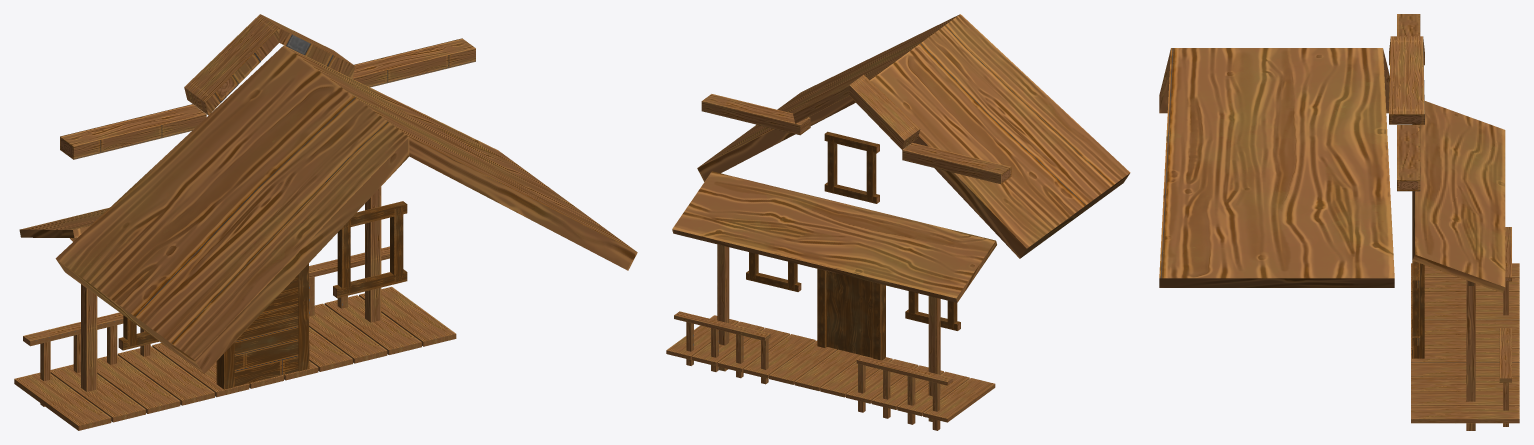
Rendered from SM_17_wood.fbx.
The picture shows the model from 3 angles, left to right: view 1: azimuth 30°, elevation 25°; view 2: azimuth 150°, elevation 25°; view 3: azimuth 270°, elevation 25°; orthographic projection. The views are drawn at different scales.
Parts seen in each view (by area): view 1: Cube.463; view 2: Cube.463; view 3: Cube.463.
Part boxes in pixels (bbox=[...]): Cube.463: bbox=[14, 14, 637, 430]; Cube.463: bbox=[666, 14, 1130, 430]; Cube.463: bbox=[1159, 14, 1519, 430].
Size of the model in its own units: 10.02 by 8.55 by 8.36.
